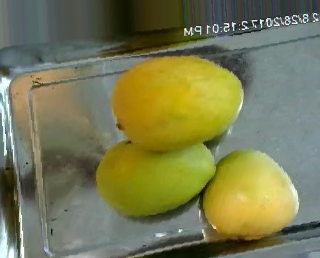Mango: (114, 56, 244, 150), (95, 140, 216, 217), (203, 148, 298, 238)
